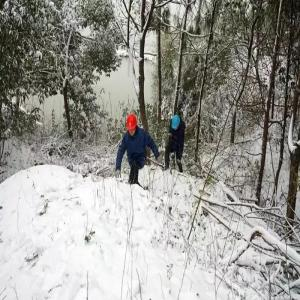blue: (171, 115, 181, 131)
red: (125, 114, 138, 137)
